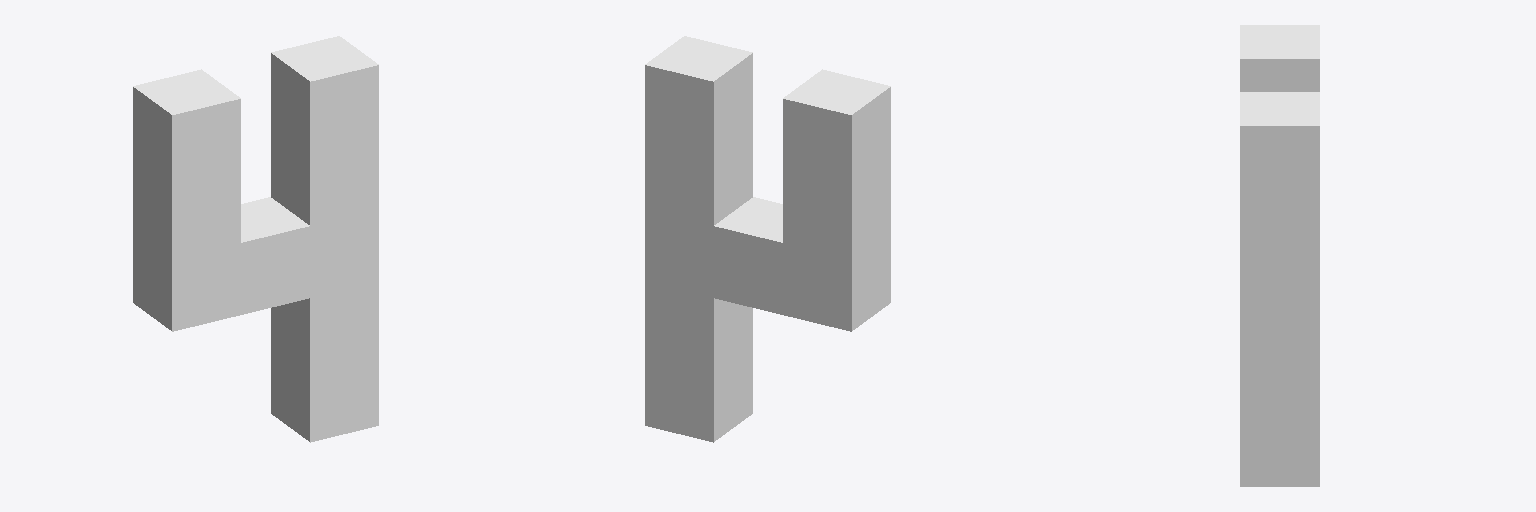
The model's file is digit_4_p.obj.
The picture shows the model from 3 angles: view 1: azimuth 30°, elevation 25°; view 2: azimuth 150°, elevation 25°; view 3: azimuth 270°, elevation 25°; orthographic projection.
Parts seen in each view (by area): view 1: object 1; view 2: object 1; view 3: object 1.
Boxes of the visible parts, box(x1,y1,x2,y2) form: object 1: box(133, 36, 378, 442); object 1: box(645, 36, 890, 442); object 1: box(1240, 25, 1319, 486).
Bounding box in the file's own units: 0.6 × 1 × 0.2.